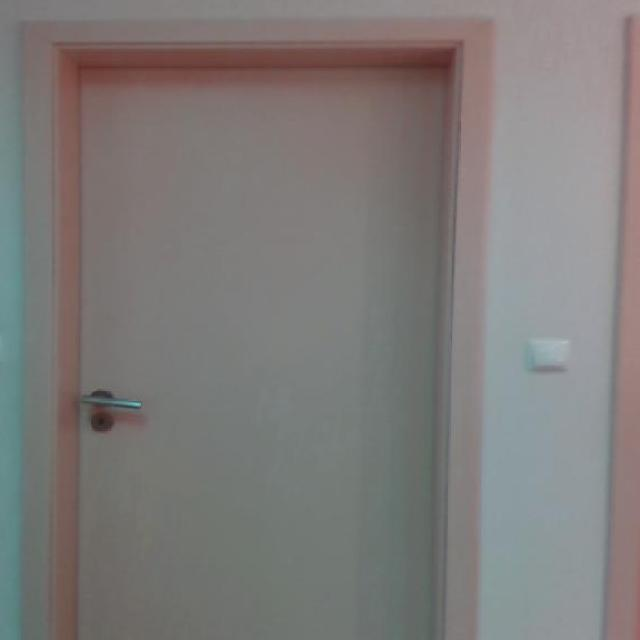door: (61, 41, 458, 639)
